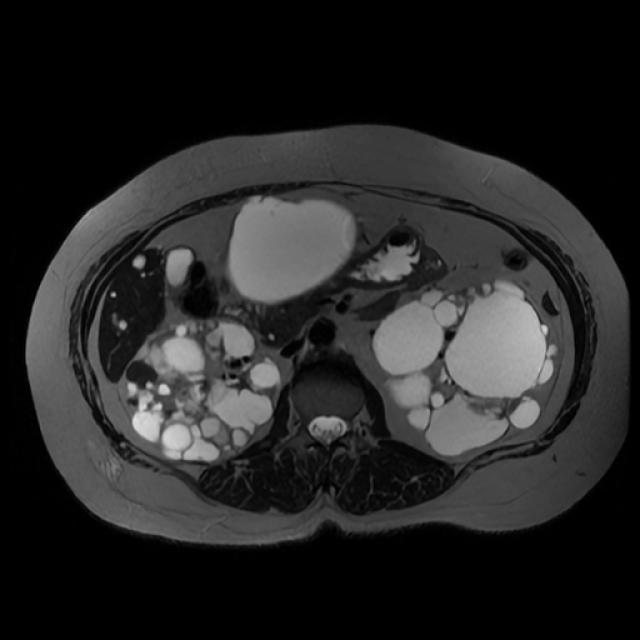sag: (126, 317, 280, 464)
sol: (371, 279, 560, 455)
